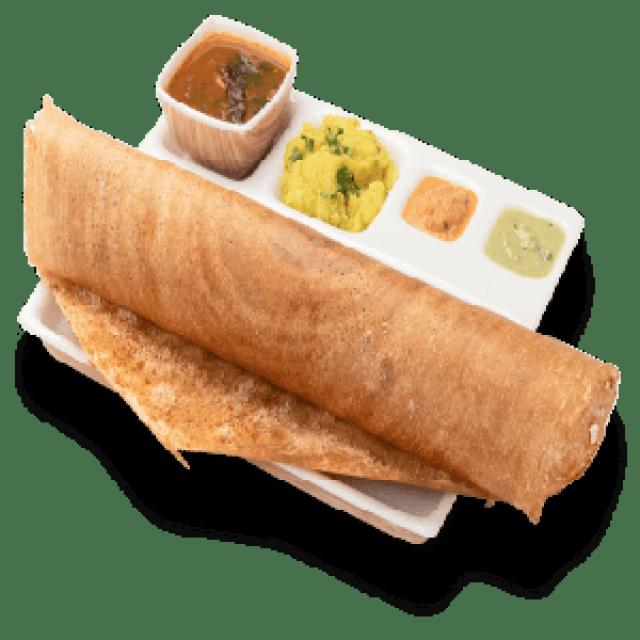dosa: (13, 82, 628, 539)
